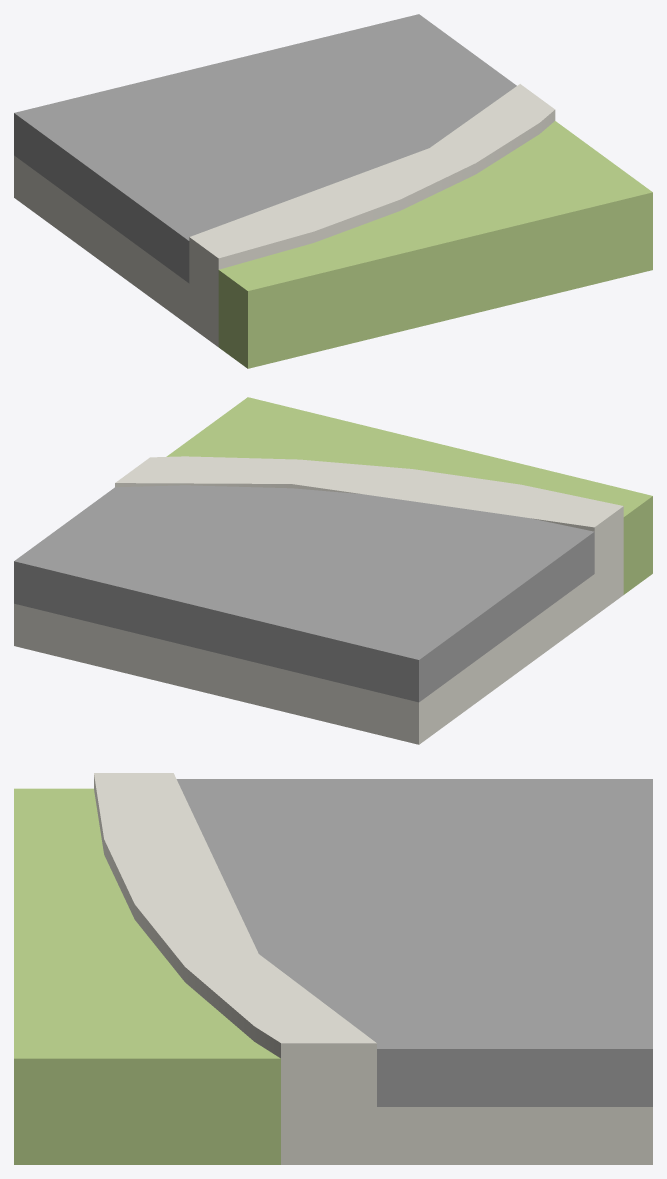
The model's file is roadTile_053.glb.
3 views of the same model, one above another, from view 1: azimuth 30°, elevation 25°; view 2: azimuth 150°, elevation 25°; view 3: azimuth 270°, elevation 25° (orthographic). The views are drawn at different scales.
Visible parts, largest first — view 1: roadTile_053; view 2: roadTile_053; view 3: roadTile_053.
Part boxes in pixels (<box>): roadTile_053: <box>14,14,652,368</box>; roadTile_053: <box>14,397,652,744</box>; roadTile_053: <box>14,773,652,1164</box>.
Size of the model in its own units: 3 by 0.63 by 3.
